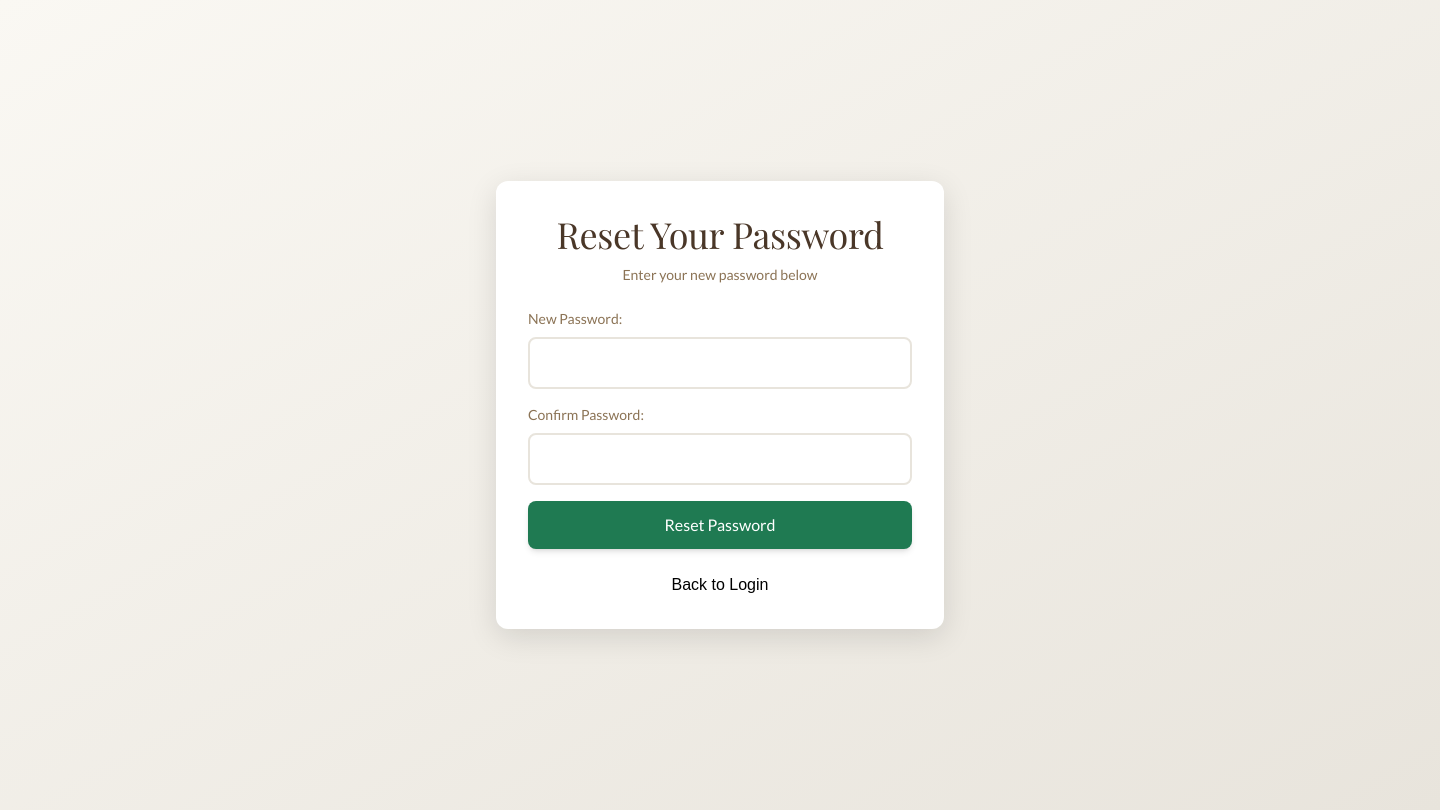
it: ResetPassword Component › Password Validation › shows error if passwords do not match
Type "password123" into the password field labelled "New Password:" at (720, 363), box [528,337,912,389]
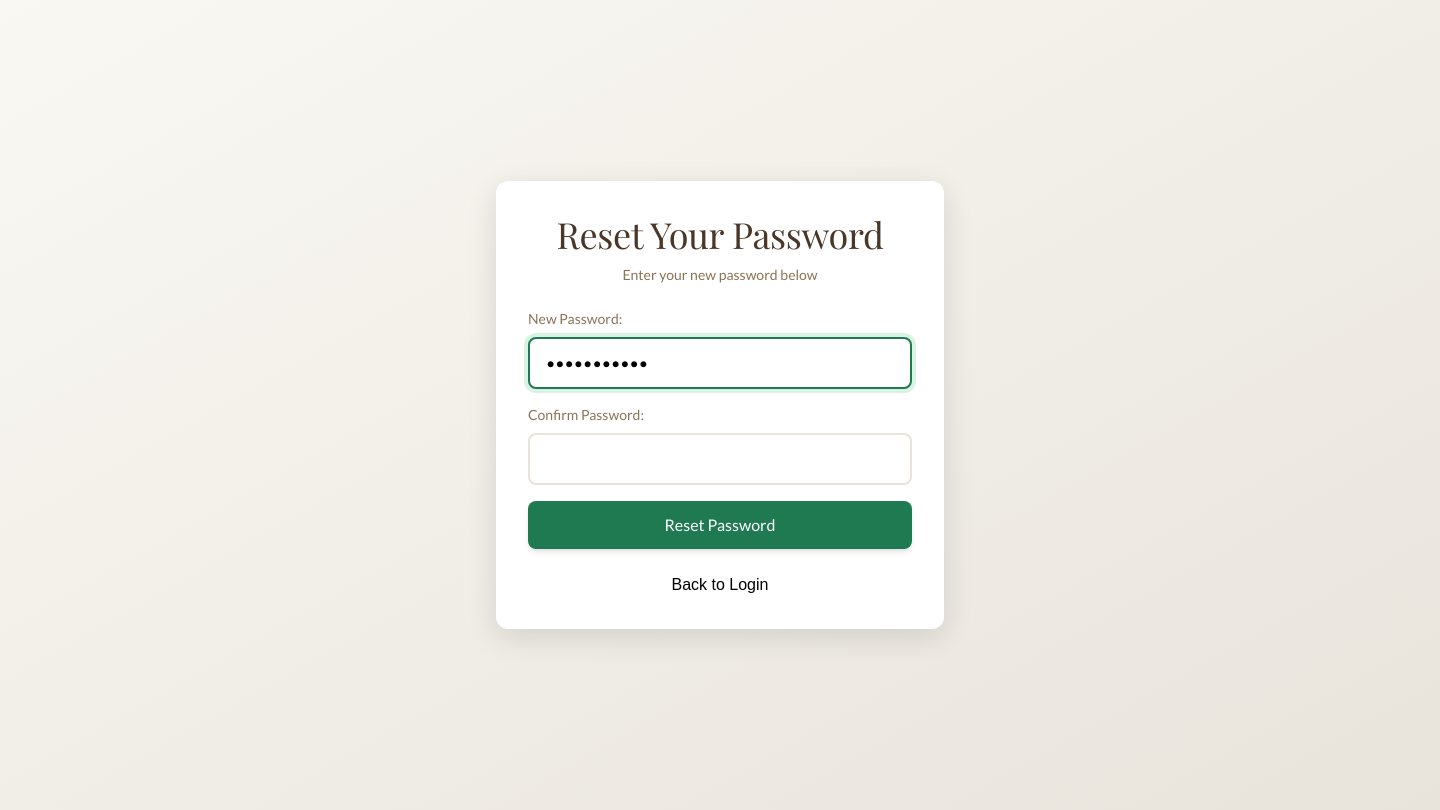
Type "differentpassword" into the password field labelled "Confirm Password:" at (720, 459), box [528,433,912,485]
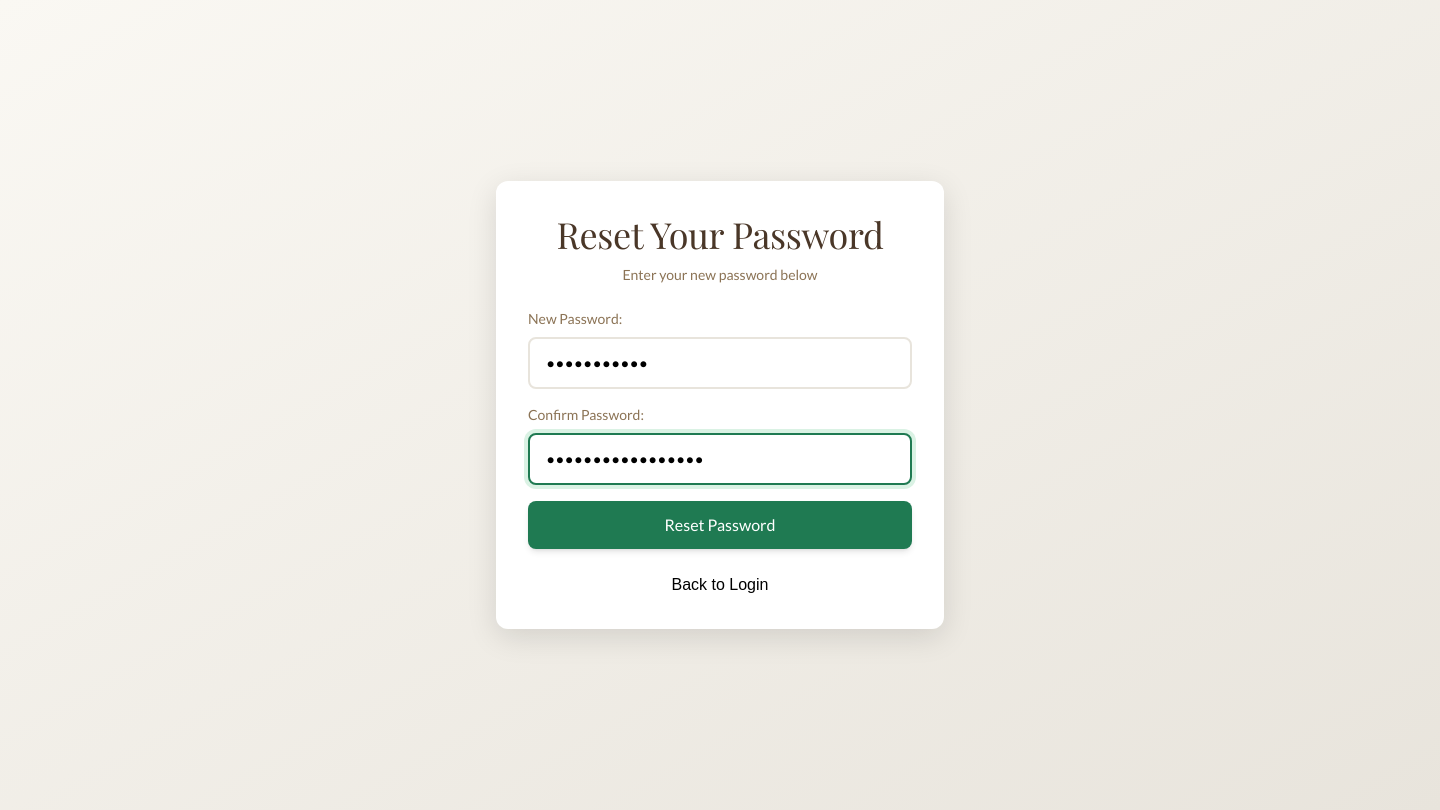
Click the button "Reset Password" at (720, 525), box [528,501,912,549]
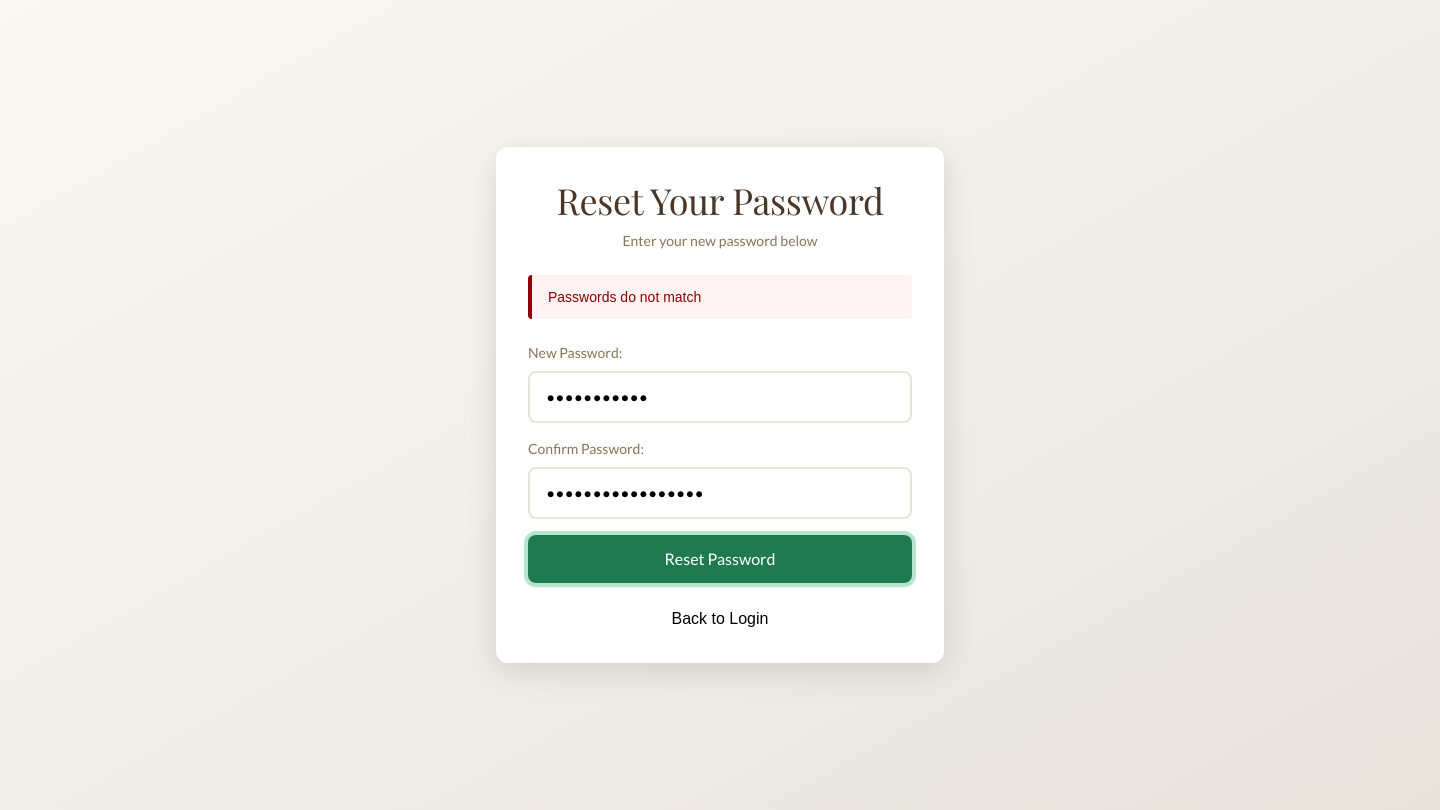
Result: the text "Passwords do not match" is shown at [528,275,912,319]
